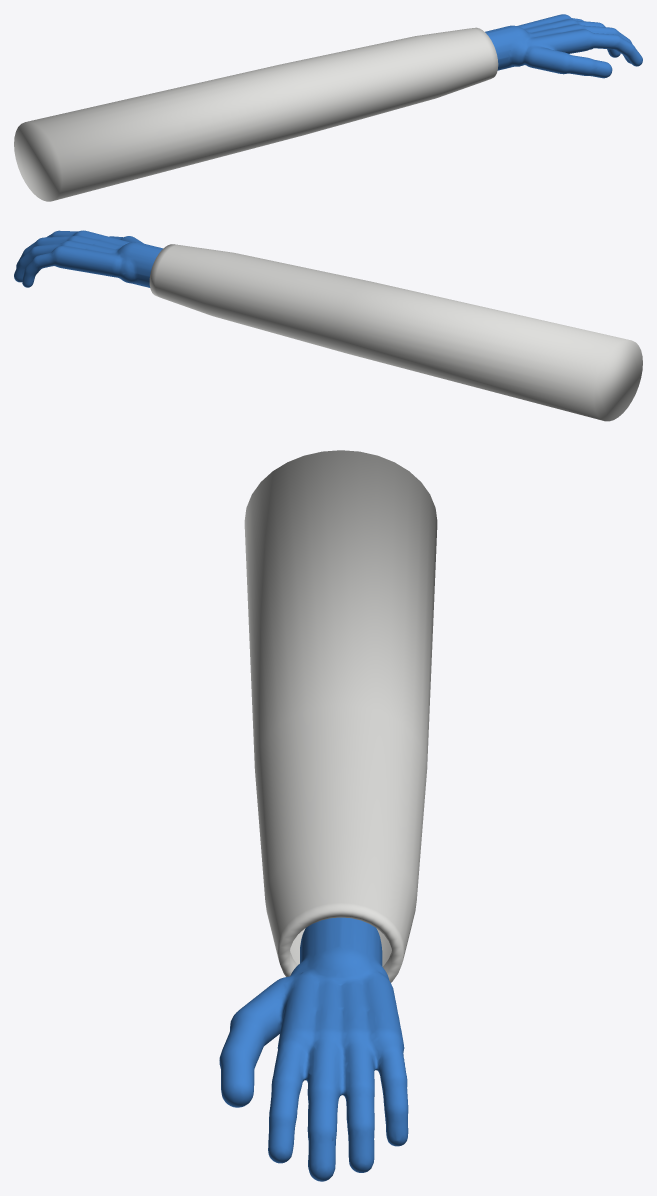
File: SM_Hand_L.glb
The picture shows the model from 3 angles, top to bottom: view 1: azimuth 30°, elevation 25°; view 2: azimuth 150°, elevation 25°; view 3: azimuth 270°, elevation 25°; orthographic projection. The views are drawn at different scales.
Parts seen in each view (by area): view 1: SM_Hand_L; view 2: SM_Hand_L; view 3: SM_Hand_L.
Boxes of the visible parts, <box> form: SM_Hand_L: <box>14,14,642,201</box>; SM_Hand_L: <box>14,230,642,421</box>; SM_Hand_L: <box>219,450,437,1181</box>.
Size of the model in its own units: 0.7973 by 0.0991 by 0.1265.
